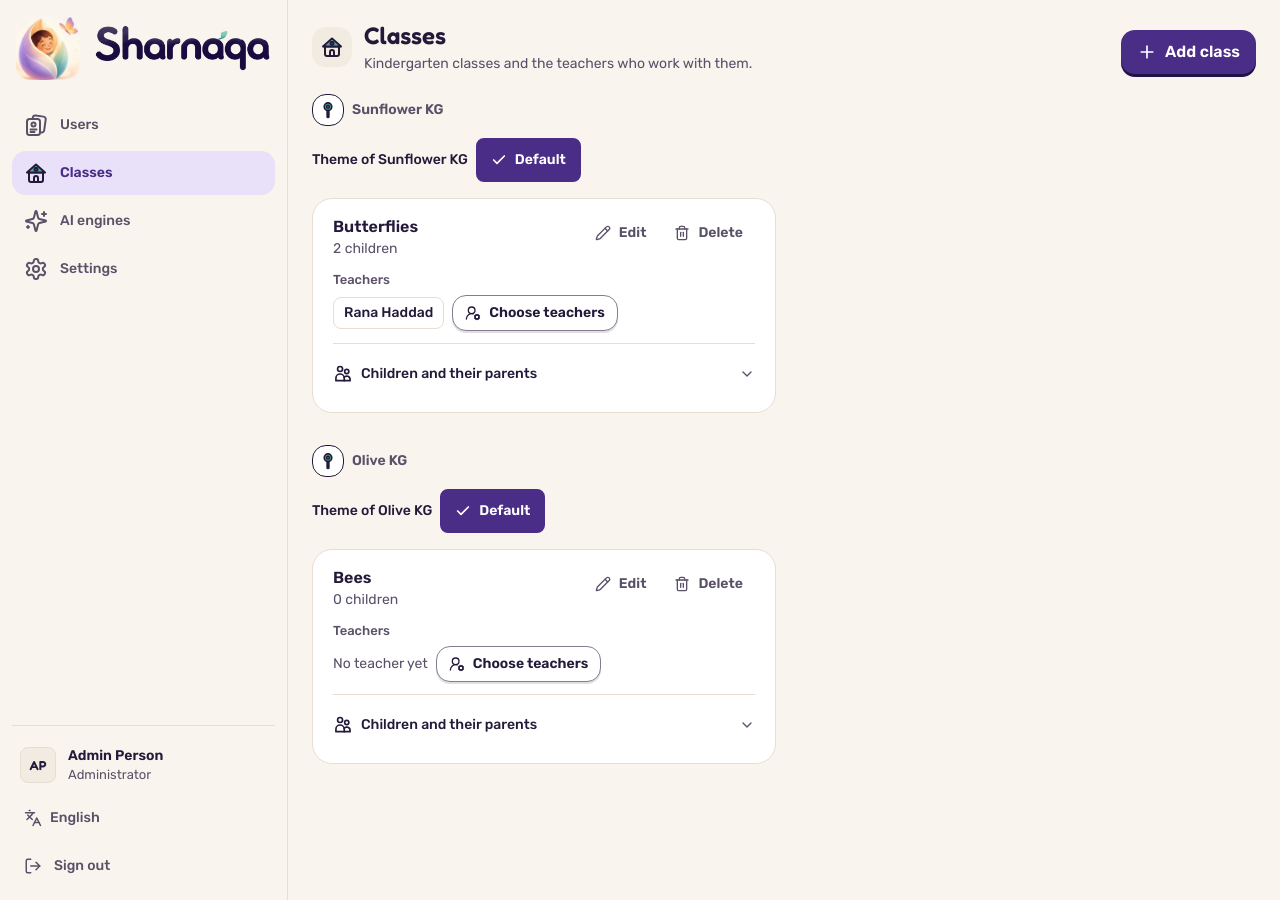
ClassesPage › lists a class's children with a Parents link
This screenshot has width=1280, height=900.
Click the button "Children and their parents" below "Rana Haddad": (449, 374) [333, 352, 755, 396]
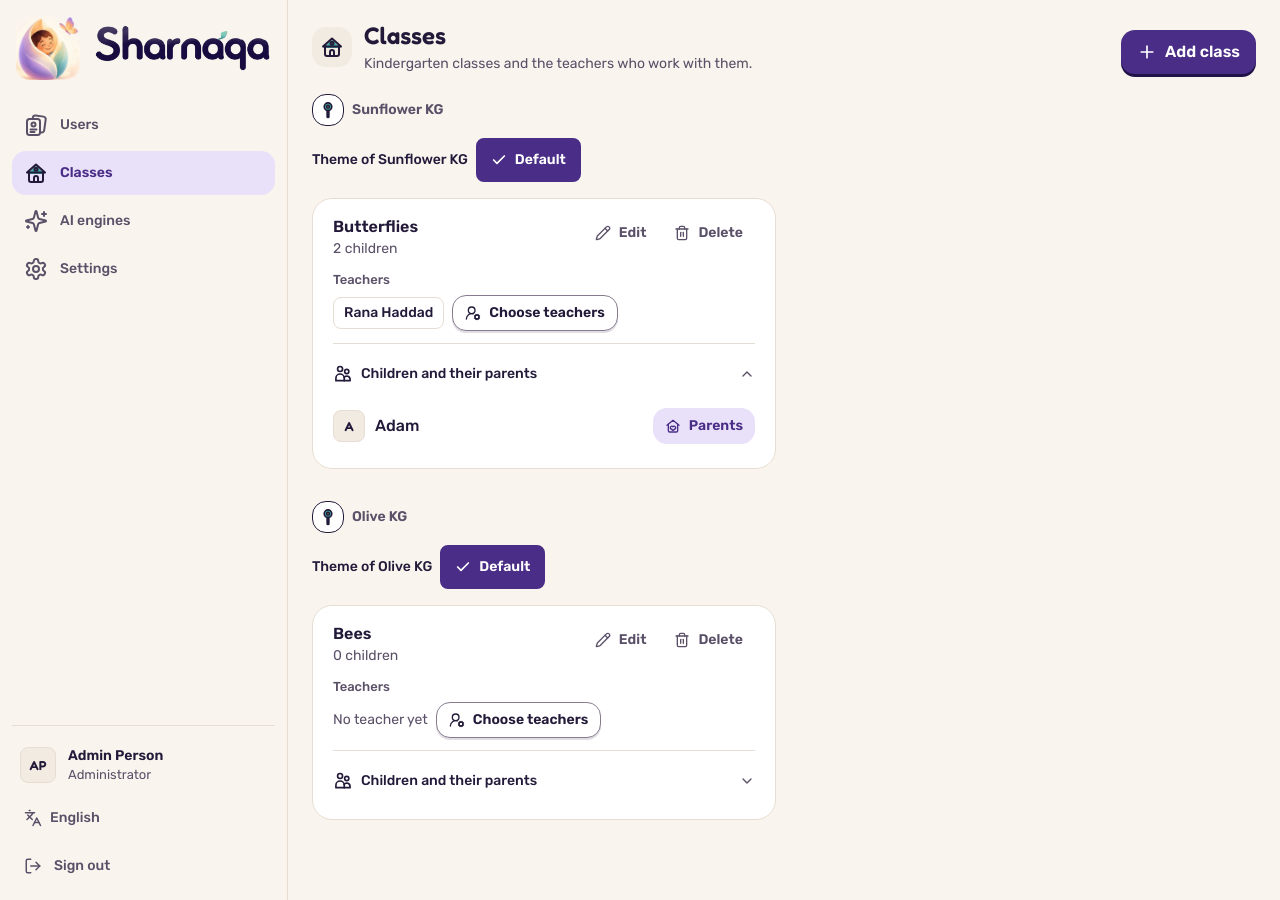
Now the text "Adam" is shown, box [375, 414, 419, 438]
